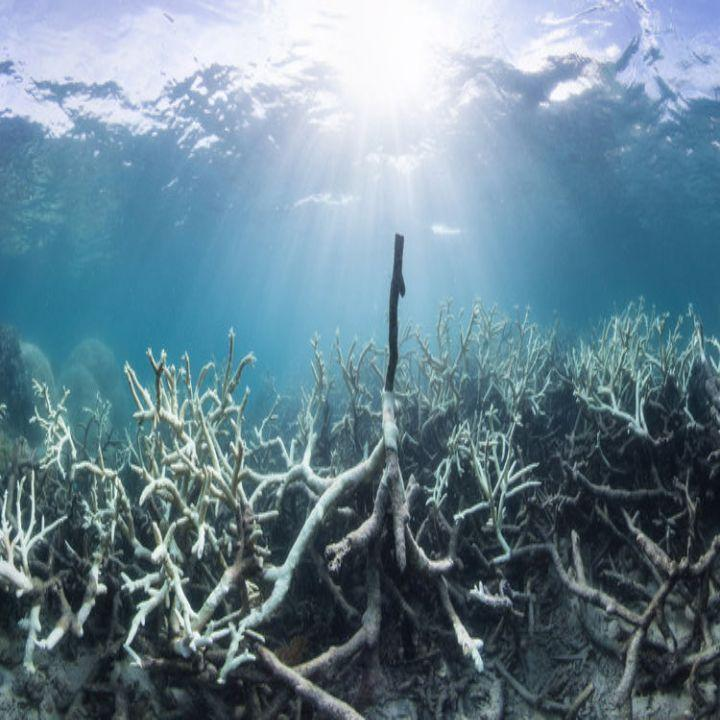Dead Coral: (23, 359, 699, 626)
